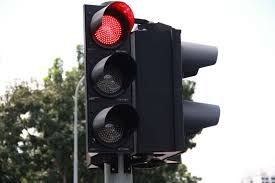red: (81, 2, 139, 161), (88, 7, 132, 149)
